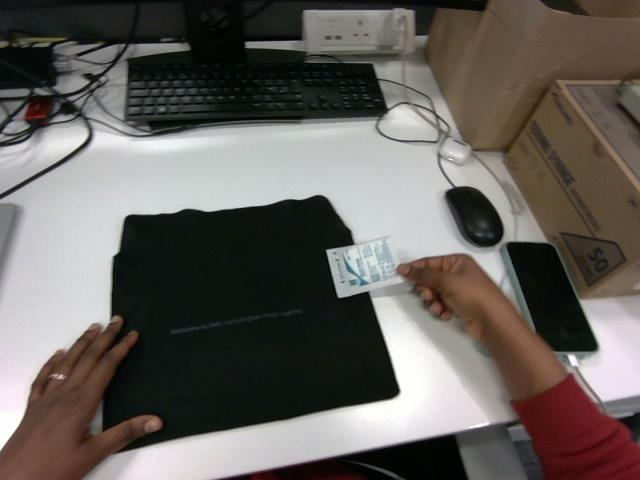gauze: (327, 237, 402, 297)
